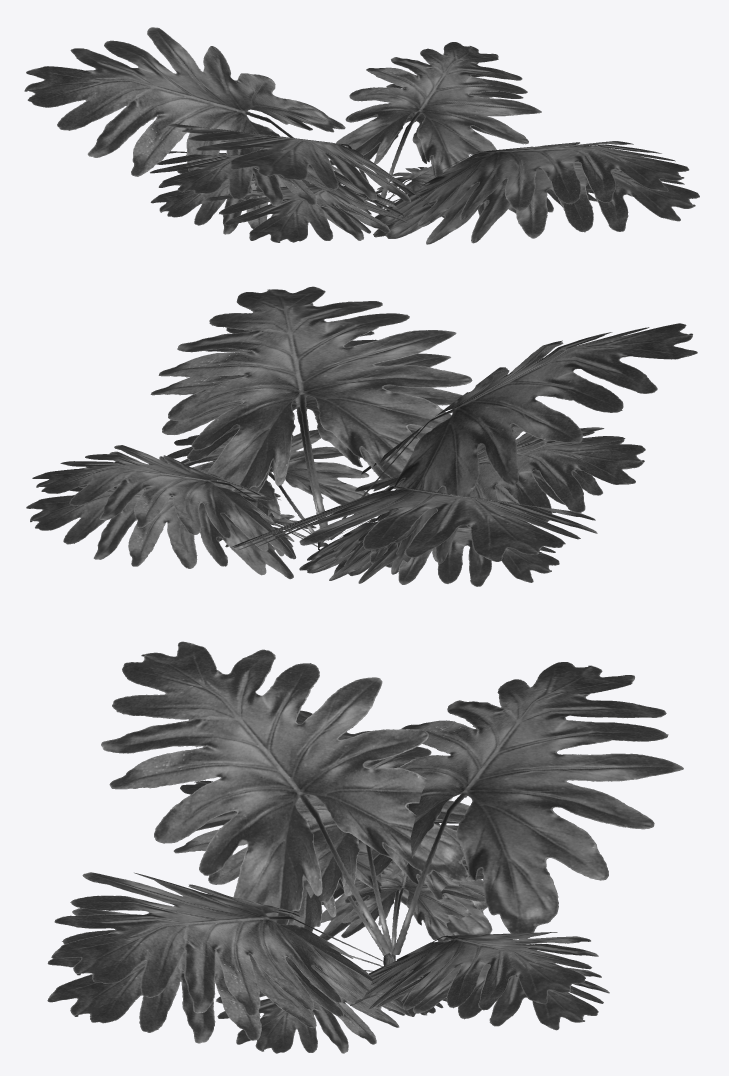
File: GroundPlant04.fbx
The picture shows the model from 3 angles, top to bottom: view 1: azimuth 30°, elevation 25°; view 2: azimuth 150°, elevation 25°; view 3: azimuth 270°, elevation 25°; orthographic projection. The views are drawn at different scales.
Visible parts, largest first — view 1: Sphere.002; view 2: Sphere.002; view 3: Sphere.002.
Part boxes in pixels (bbox=[...]): Sphere.002: bbox=[24, 27, 699, 244]; Sphere.002: bbox=[26, 286, 697, 586]; Sphere.002: bbox=[47, 641, 683, 1053].
Size of the model in its own units: 169 by 53.19 by 169.
